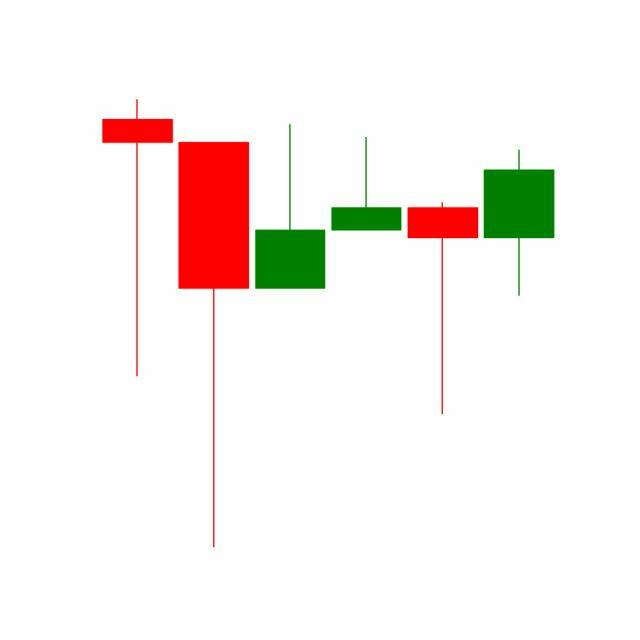Hammer: (404, 200, 482, 417)
